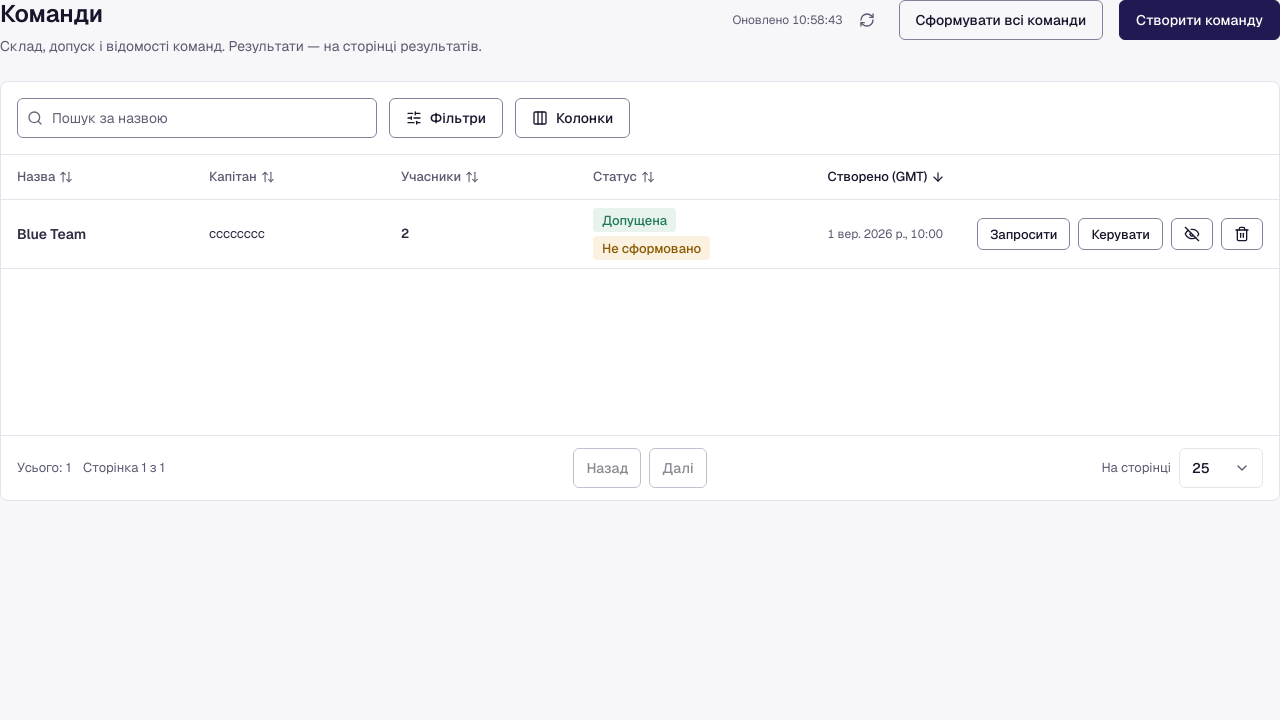
Test case: keeps the dialog open with the error when forming fails
The image size is (1280, 720).
Click the button "Сформувати всі команди" at [1001, 20], box top-left (898, 0), bottom-right (1103, 40)
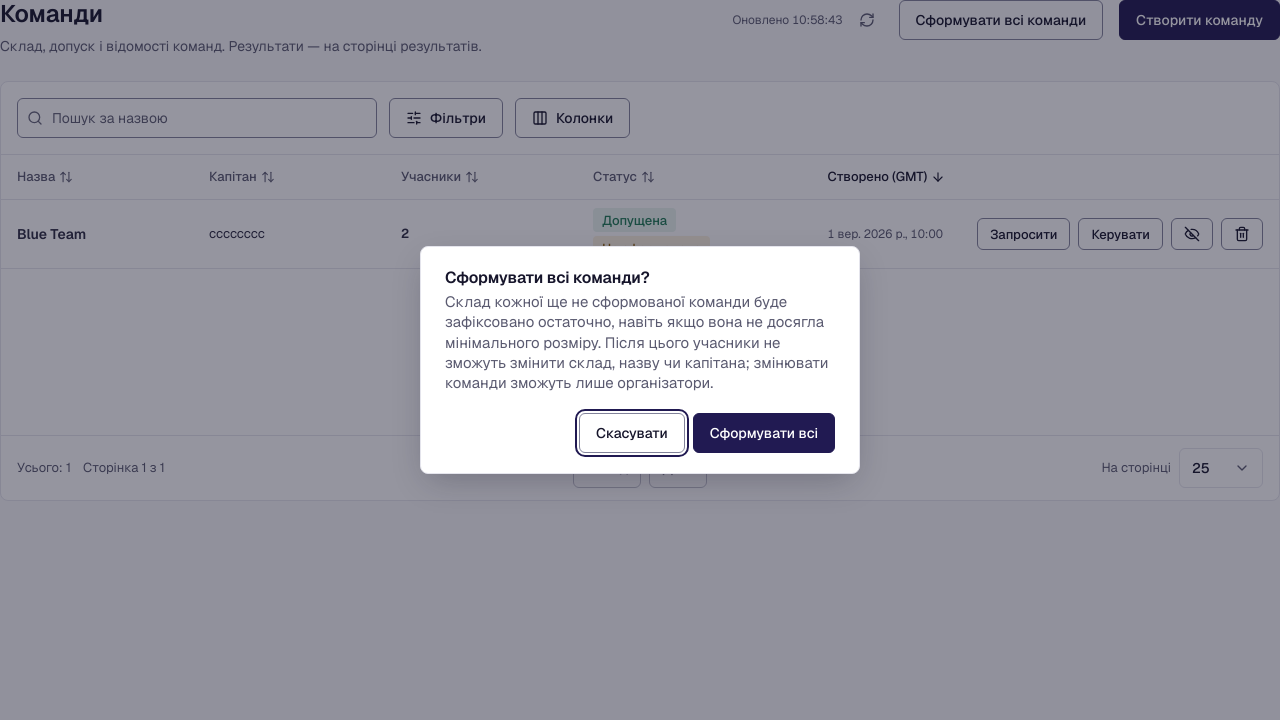
Click the button "Сформувати всі" at [764, 433], box top-left (693, 413), bottom-right (835, 453)
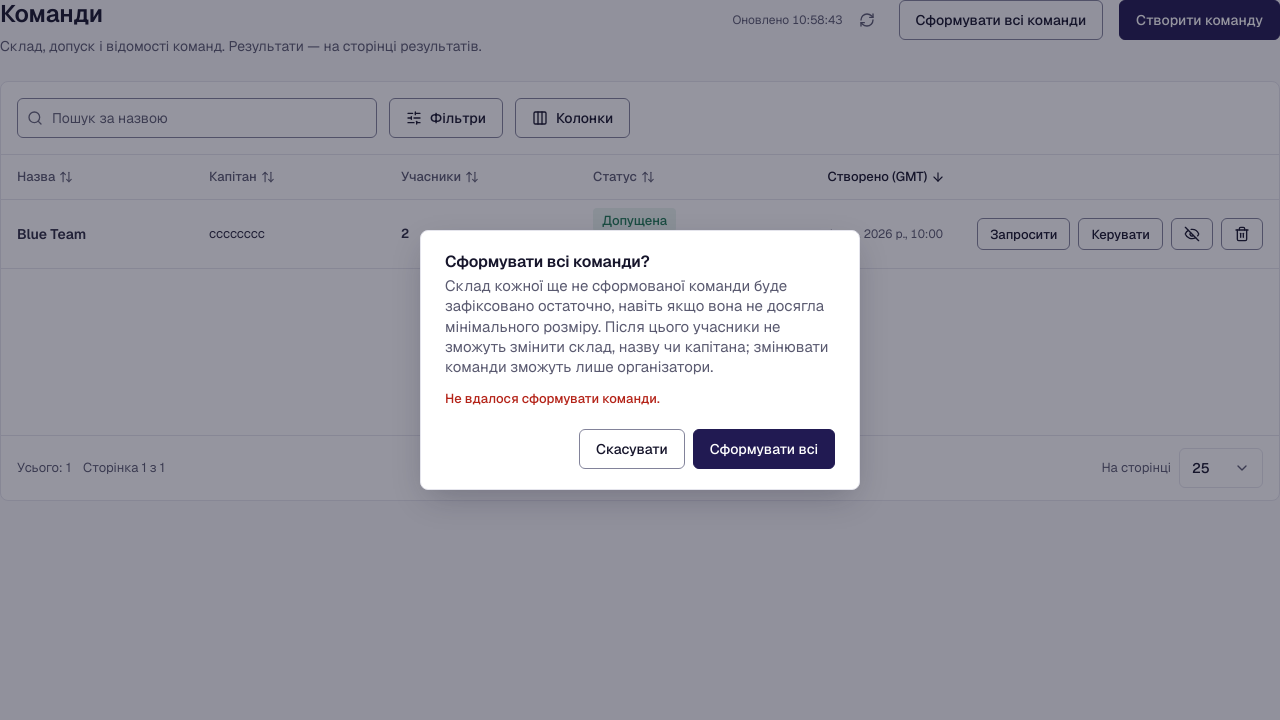
Result: the heading "Сформувати всі команди?" is shown at top-left (445, 250), bottom-right (650, 272)
Result: the text "Не вдалося сформувати команди." is shown at top-left (445, 390), bottom-right (660, 407)
